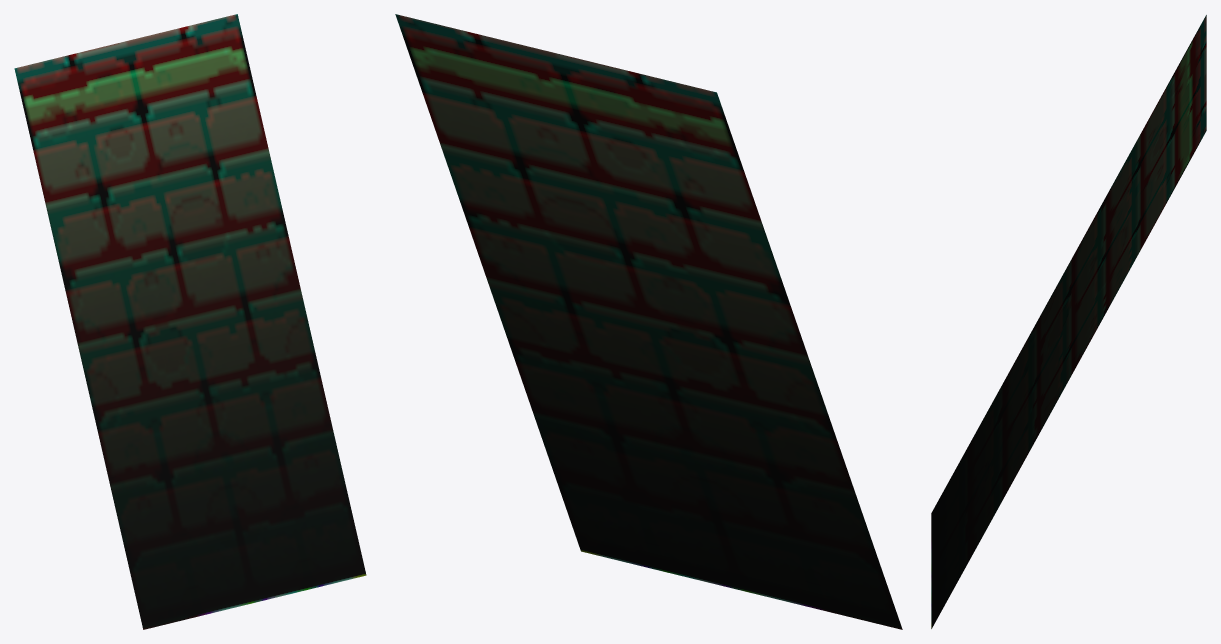
File: arch_cathedral_wallBottom_A.FBX
The picture shows the model from 3 angles, left to right: view 1: azimuth 30°, elevation 25°; view 2: azimuth 150°, elevation 25°; view 3: azimuth 270°, elevation 25°; orthographic projection. The views are drawn at different scales.
Visible parts, largest first — view 1: arch_cathedral_wallBottom_A; view 2: arch_cathedral_wallBottom_A; view 3: arch_cathedral_wallBottom_A.
Part boxes in pixels (x1,y1,x2,y2): arch_cathedral_wallBottom_A: [14, 14, 366, 629]; arch_cathedral_wallBottom_A: [395, 14, 902, 629]; arch_cathedral_wallBottom_A: [931, 15, 1206, 628].
Size of the model in its own units: 2 by 4 by 2.
Materials: 1 (1 with a texture image).
